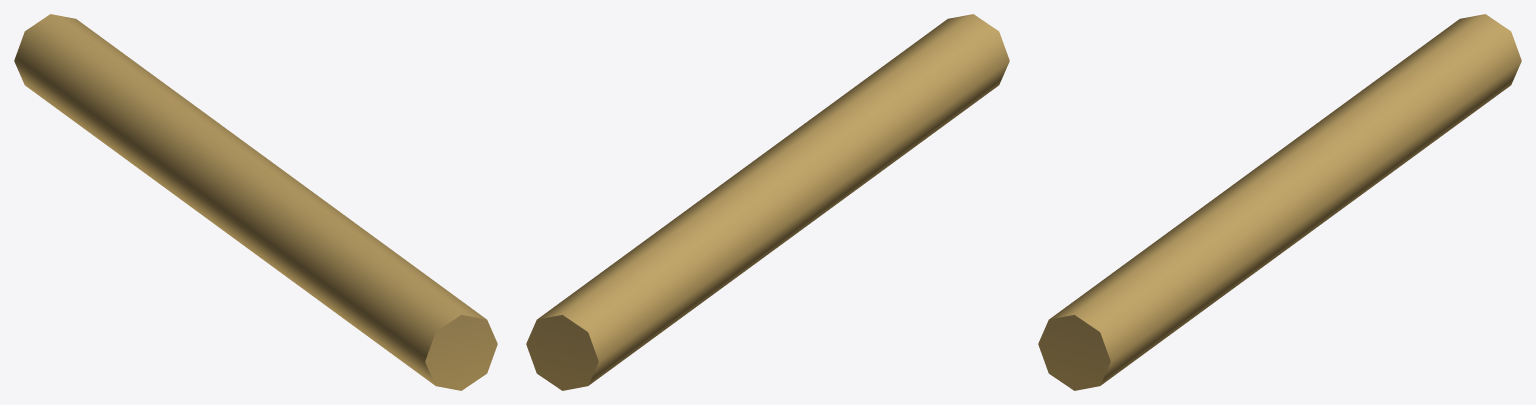
The model's file is axle_hor_small_rotator.glb.
3 views of the same model, side by side, from view 1: azimuth 30°, elevation 25°; view 2: azimuth 150°, elevation 25°; view 3: azimuth 330°, elevation 25° (orthographic).
Visible parts, largest first — view 1: AxleHorSmall_rotator; view 2: AxleHorSmall_rotator; view 3: AxleHorSmall_rotator.
Part boxes in pixels (<box>): AxleHorSmall_rotator: <box>14,14,497,390</box>; AxleHorSmall_rotator: <box>526,14,1009,390</box>; AxleHorSmall_rotator: <box>1038,14,1521,390</box>.
Bounding box in the file's own units: 0.2045 × 0.2045 × 2.
1 material, 1 textured.
